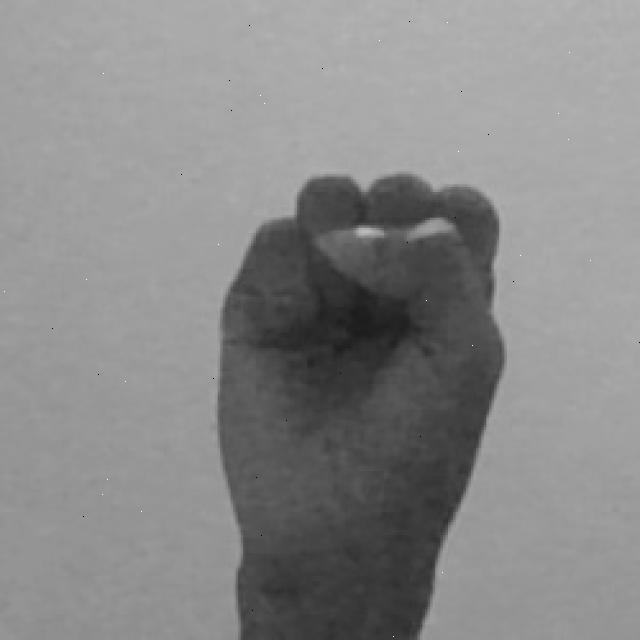S: (202, 166, 510, 640)
